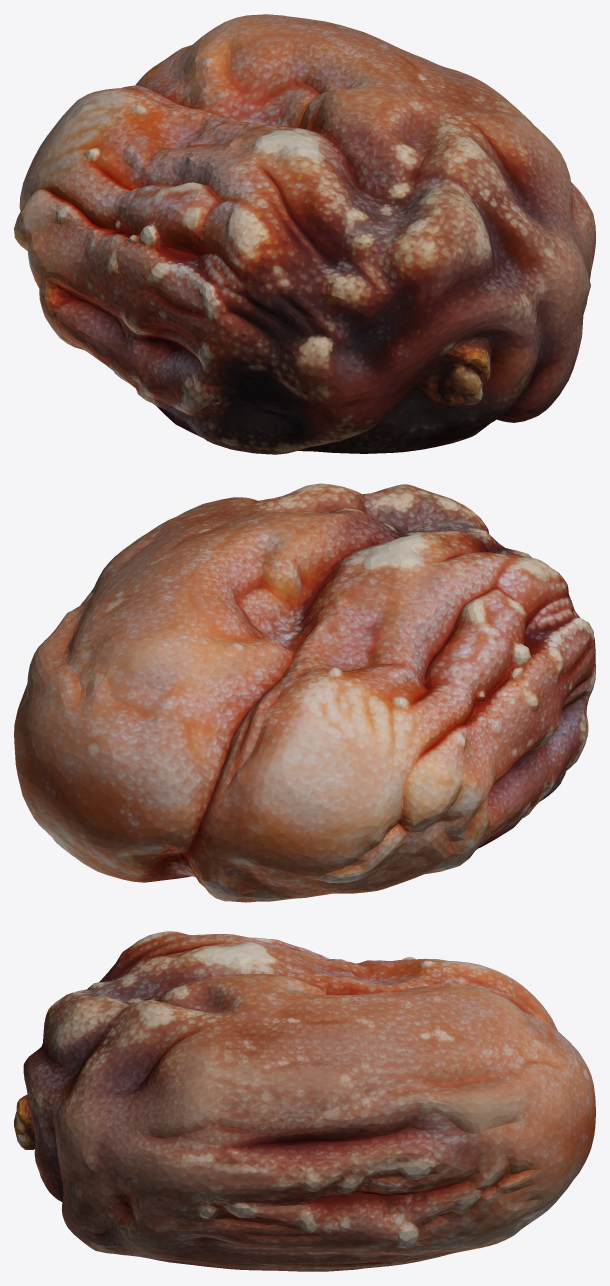
File: Persimmon.glb
The picture shows the model from 3 angles, top to bottom: view 1: azimuth 30°, elevation 25°; view 2: azimuth 150°, elevation 25°; view 3: azimuth 270°, elevation 25°; orthographic projection. The views are drawn at different scales.
Parts seen in each view (by area): view 1: world; view 2: world; view 3: world.
Boxes of the visible parts, <box> form: world: <box>14,14,595,454</box>; world: <box>14,483,595,902</box>; world: <box>14,931,595,1271</box>.
Bounding box in the file's own units: 0.7895 × 0.4836 × 0.9996.
Materials: 1 (1 with a texture image).
